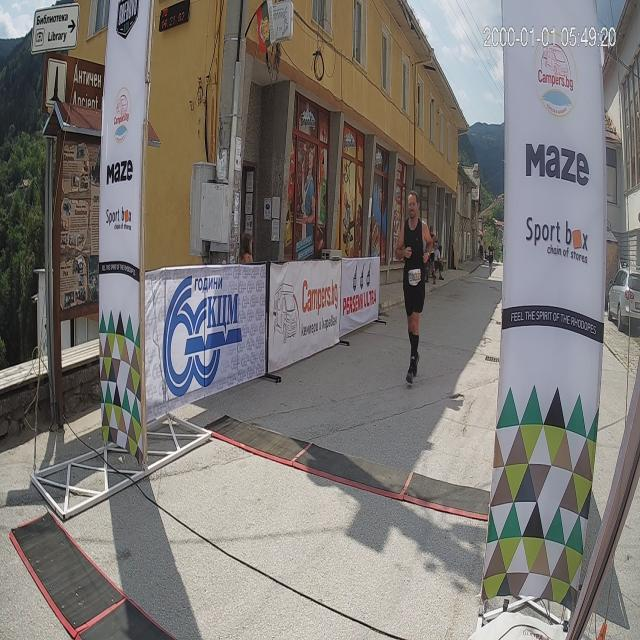runner: (387, 161, 440, 402), (483, 224, 498, 284)
